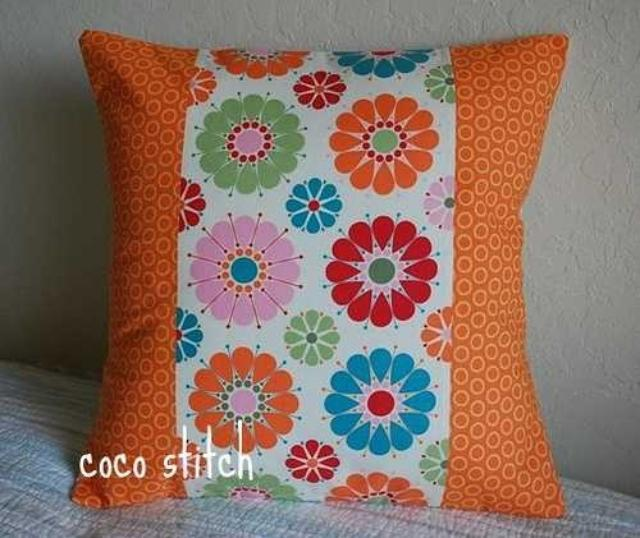pillow: (70, 27, 570, 521)
